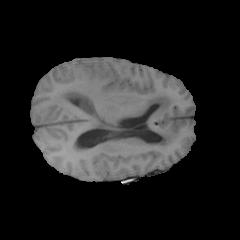glioma: (55, 82, 176, 147)
